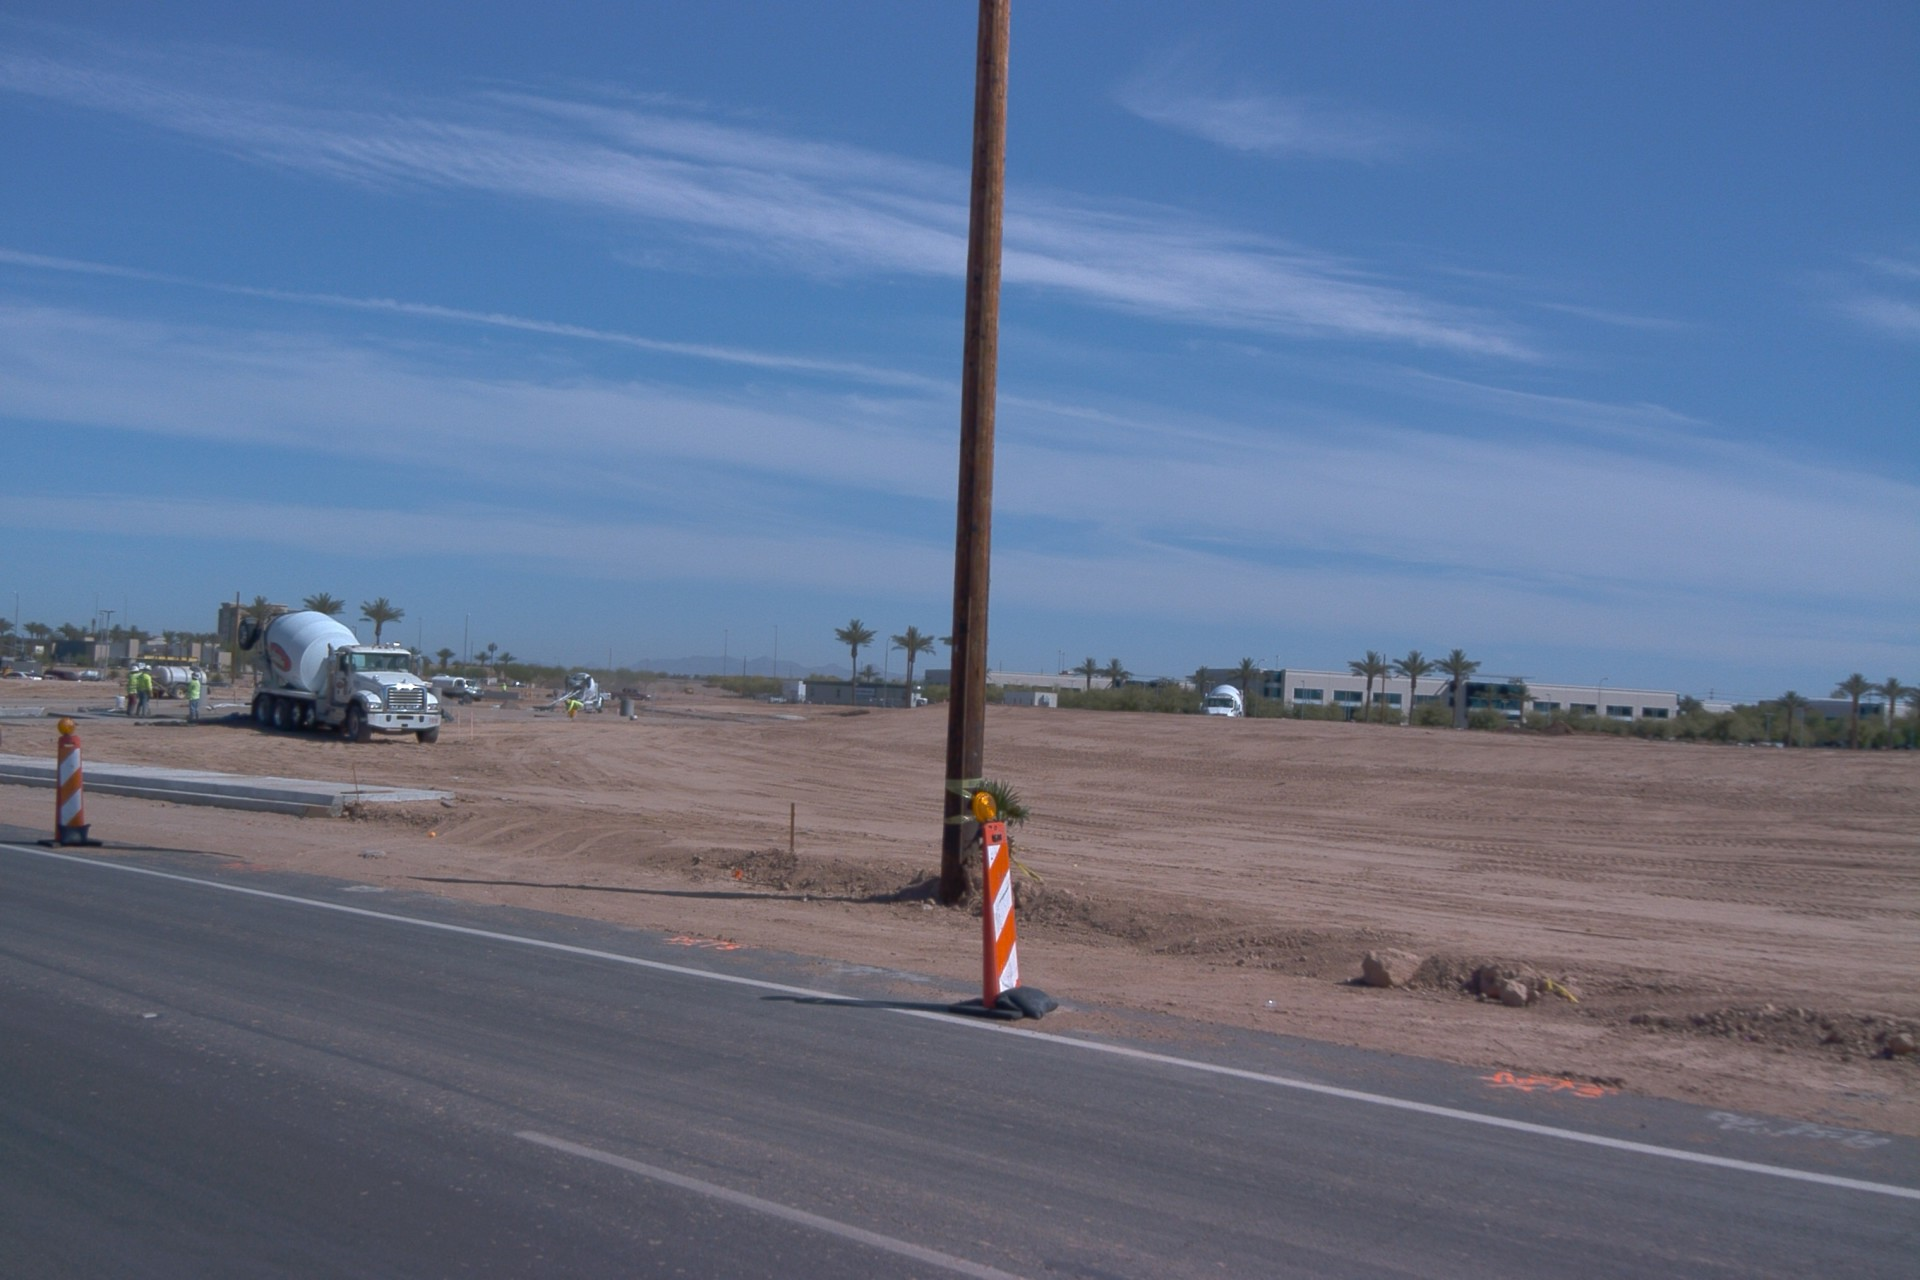TYPE_PEDESTRIAN: (124, 664, 145, 718), (133, 665, 153, 720), (182, 672, 202, 725), (566, 697, 588, 714), (552, 683, 560, 701)
TYPE_VEHICLE: (231, 613, 444, 746), (143, 664, 213, 701), (549, 670, 606, 715), (1196, 679, 1245, 719), (431, 673, 487, 705), (606, 687, 652, 705), (40, 673, 90, 687), (0, 674, 44, 685), (598, 693, 615, 704), (211, 683, 235, 690), (127, 663, 147, 670), (769, 696, 786, 702)
